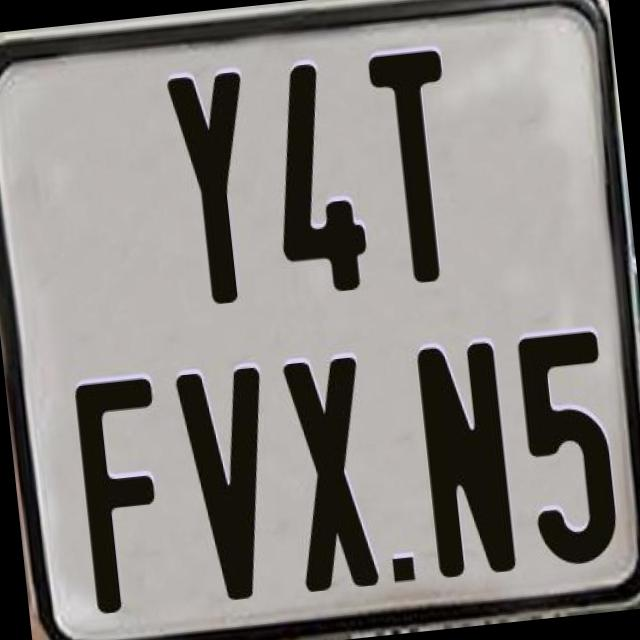4: (262, 59, 371, 300)
5: (512, 327, 622, 572)
F: (72, 376, 182, 620)
N: (416, 339, 520, 581)
T: (368, 48, 464, 285)
V: (174, 364, 288, 604)
X: (278, 352, 378, 590)
Y: (162, 67, 268, 308)
